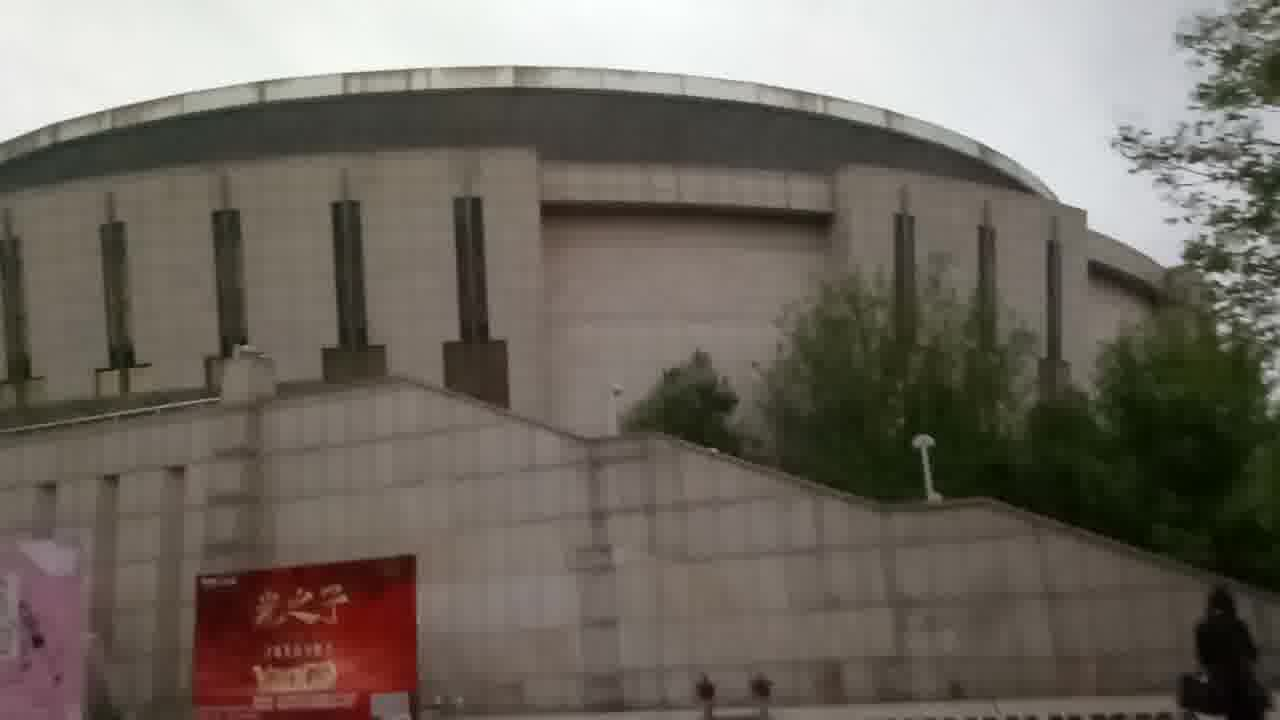zhongtiww: (5, 58, 1240, 720)
